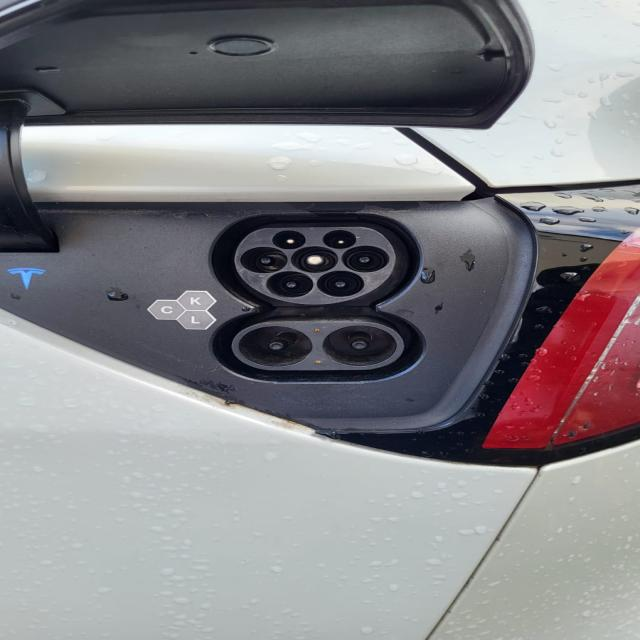inlet: (233, 227, 396, 305)
inlet-above-left: (273, 230, 306, 250)
inlet-above-right: (323, 230, 356, 249)
inlet-below-left: (267, 271, 313, 298)
inlet-below-right: (317, 271, 365, 297)
inlet-circle: (291, 246, 338, 273)
inlet-circle-left: (241, 246, 288, 274)
inlet-circle-right: (342, 245, 389, 273)
inlet-minus: (322, 325, 398, 367)
inlet-plus: (238, 326, 312, 367)
